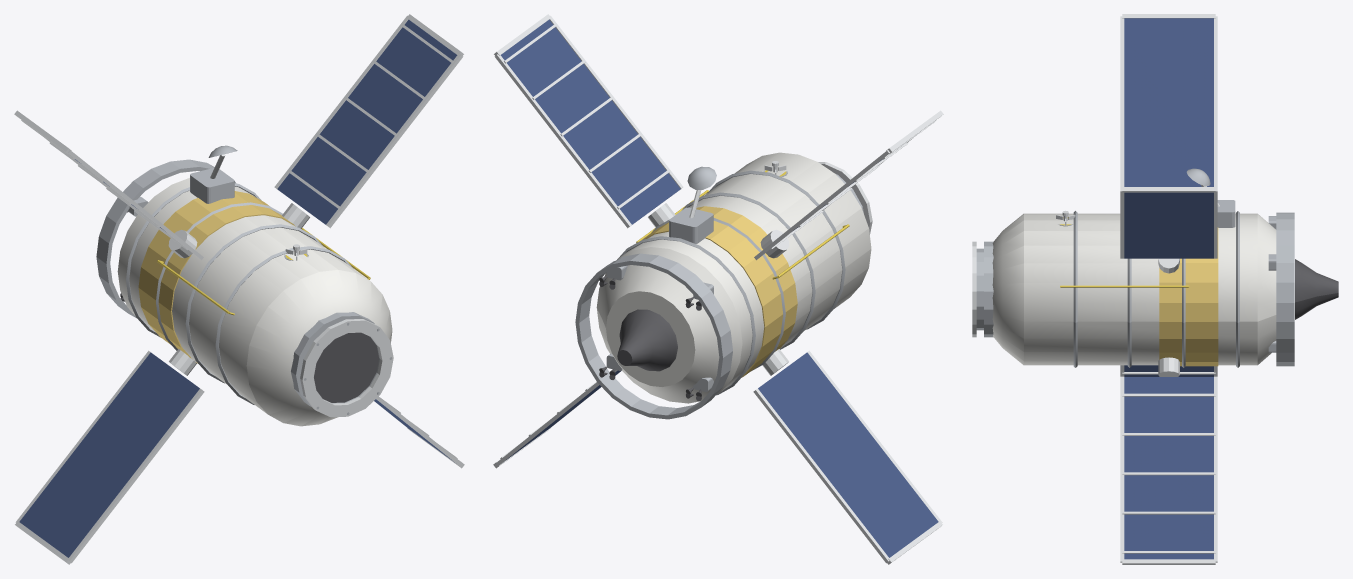
The model's file is orbital-station-and-docking-bays-cargo-freighter-85a5a5da__24566.glb.
The picture shows the model from 3 angles, left to right: view 1: azimuth 30°, elevation 25°; view 2: azimuth 150°, elevation 25°; view 3: azimuth 270°, elevation 25°; orthographic projection. The views are drawn at different scales.
Parts seen in each view (by area): view 1: cargo-freighter; view 2: cargo-freighter; view 3: cargo-freighter.
Part boxes in pixels (x1=…): cargo-freighter: x1=14, y1=14, x2=464, y2=564; cargo-freighter: x1=493, y1=14, x2=943, y2=564; cargo-freighter: x1=972, y1=14, x2=1338, y2=564.
Size of the model in its own units: 8.49 by 8.49 by 7.45.
